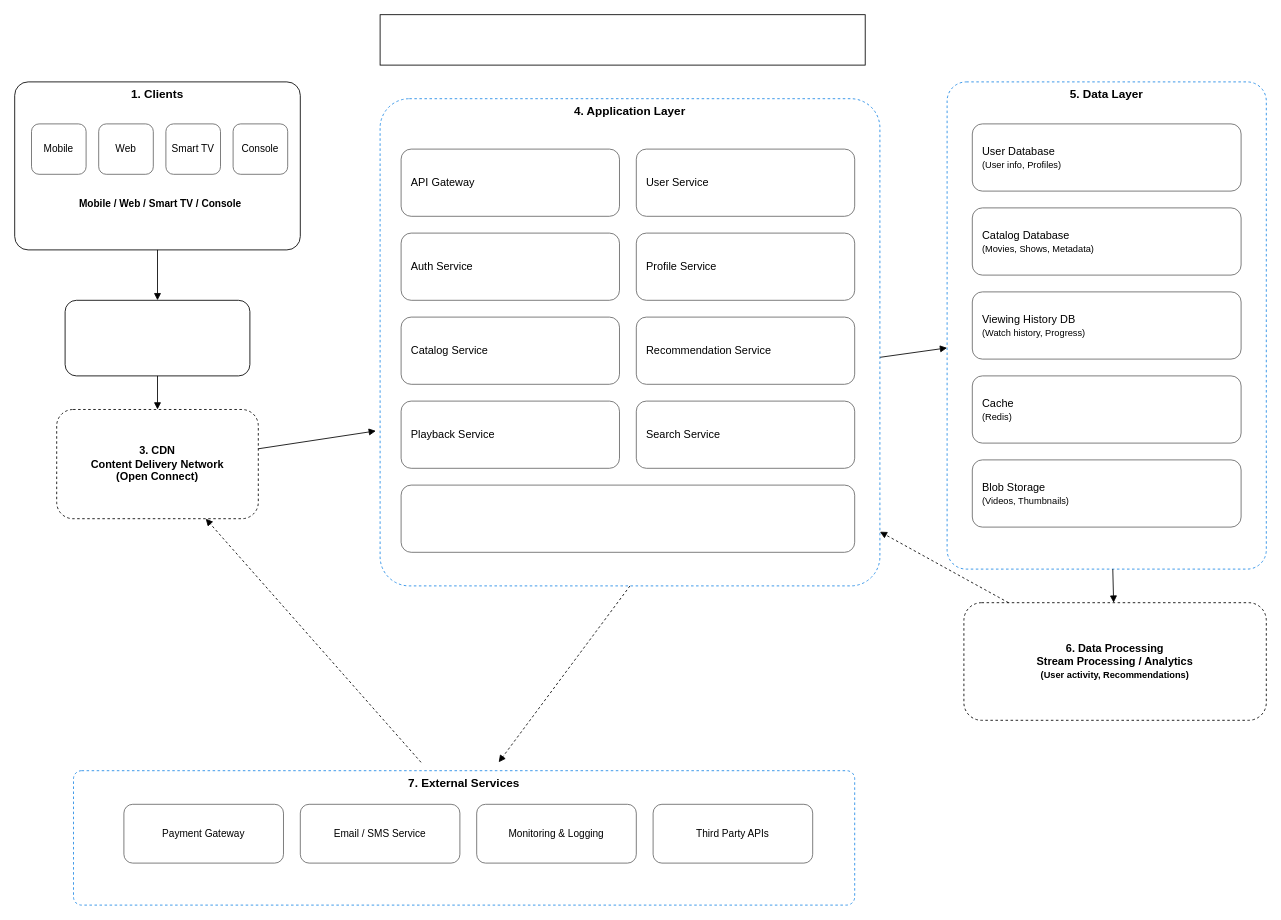
Some shapes in this 1281 by 920 pixel diagram are drawn without their labels. Each missing label, with the centre of its shape:
"2. DNS" belongs at pixel 157 337.
"NETFLIX" belongs at pixel 622 39.
"Video Metadata Service" belongs at pixel 627 518.
